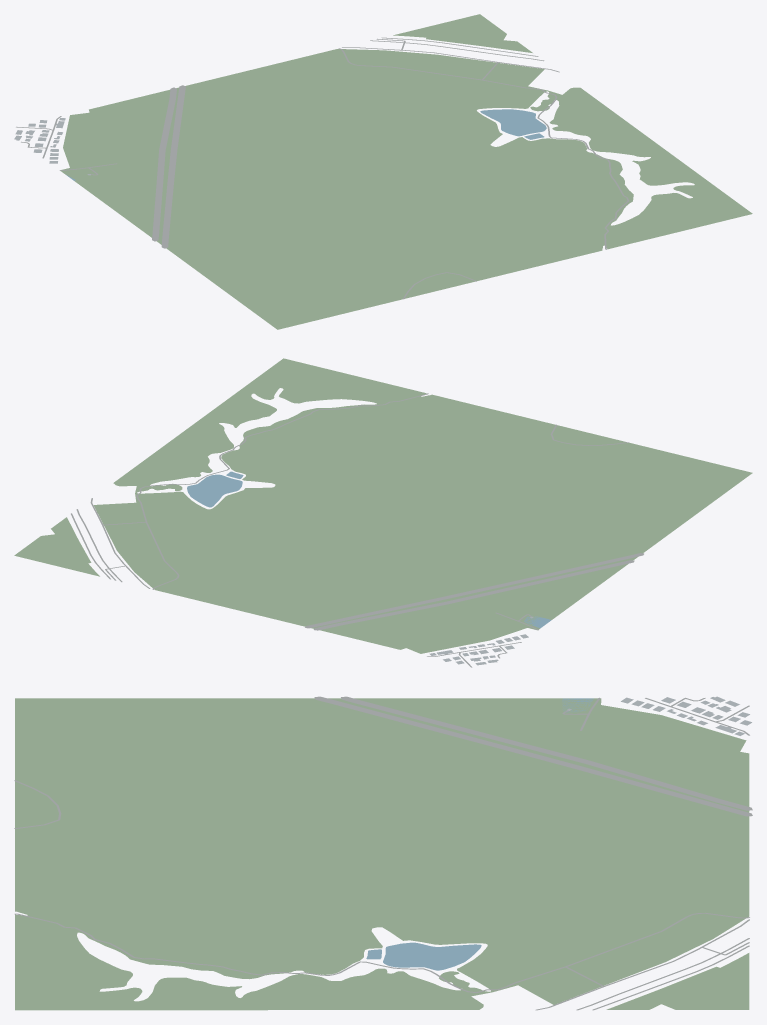
File: 15_6-known-fine.glb
The picture shows the model from 3 angles, top to bottom: view 1: azimuth 30°, elevation 25°; view 2: azimuth 150°, elevation 25°; view 3: azimuth 270°, elevation 25°; orthographic projection. The views are drawn at different scales.
Size of the model in its own units: 1007 by 0.15 by 1001.
